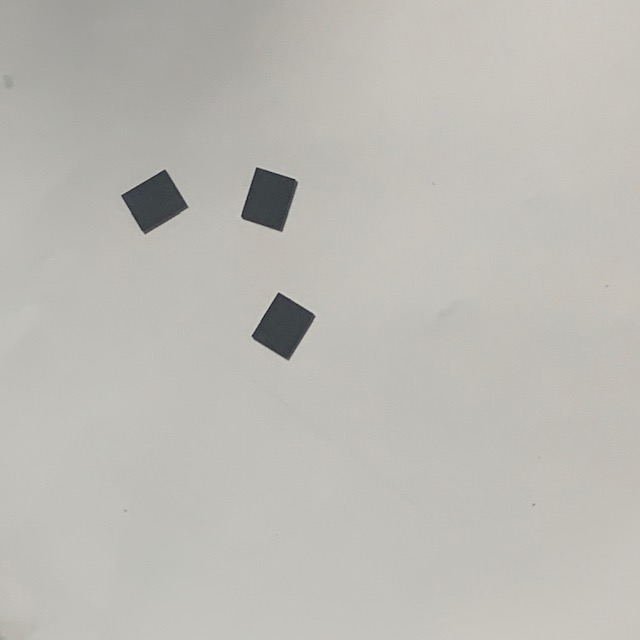IC: (118, 166, 192, 236), (248, 290, 318, 362), (237, 163, 300, 234)
